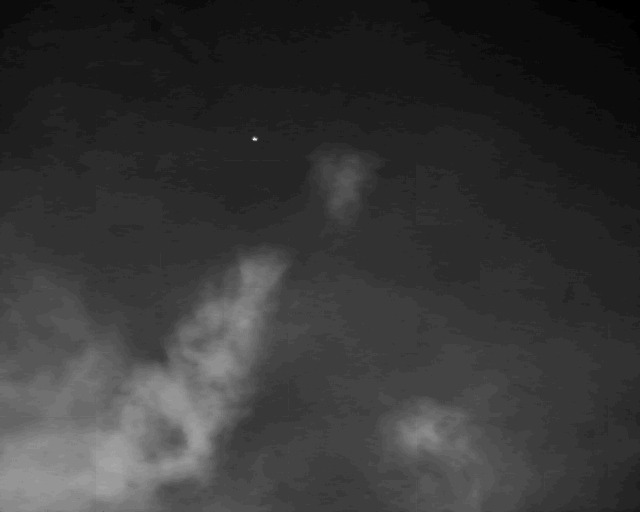Target: (252, 136, 259, 142)
